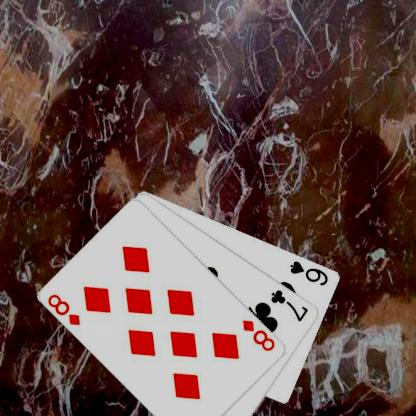6S: (287, 258, 330, 287)
7C: (268, 287, 310, 323)
8D: (44, 291, 82, 327), (240, 316, 277, 352)
